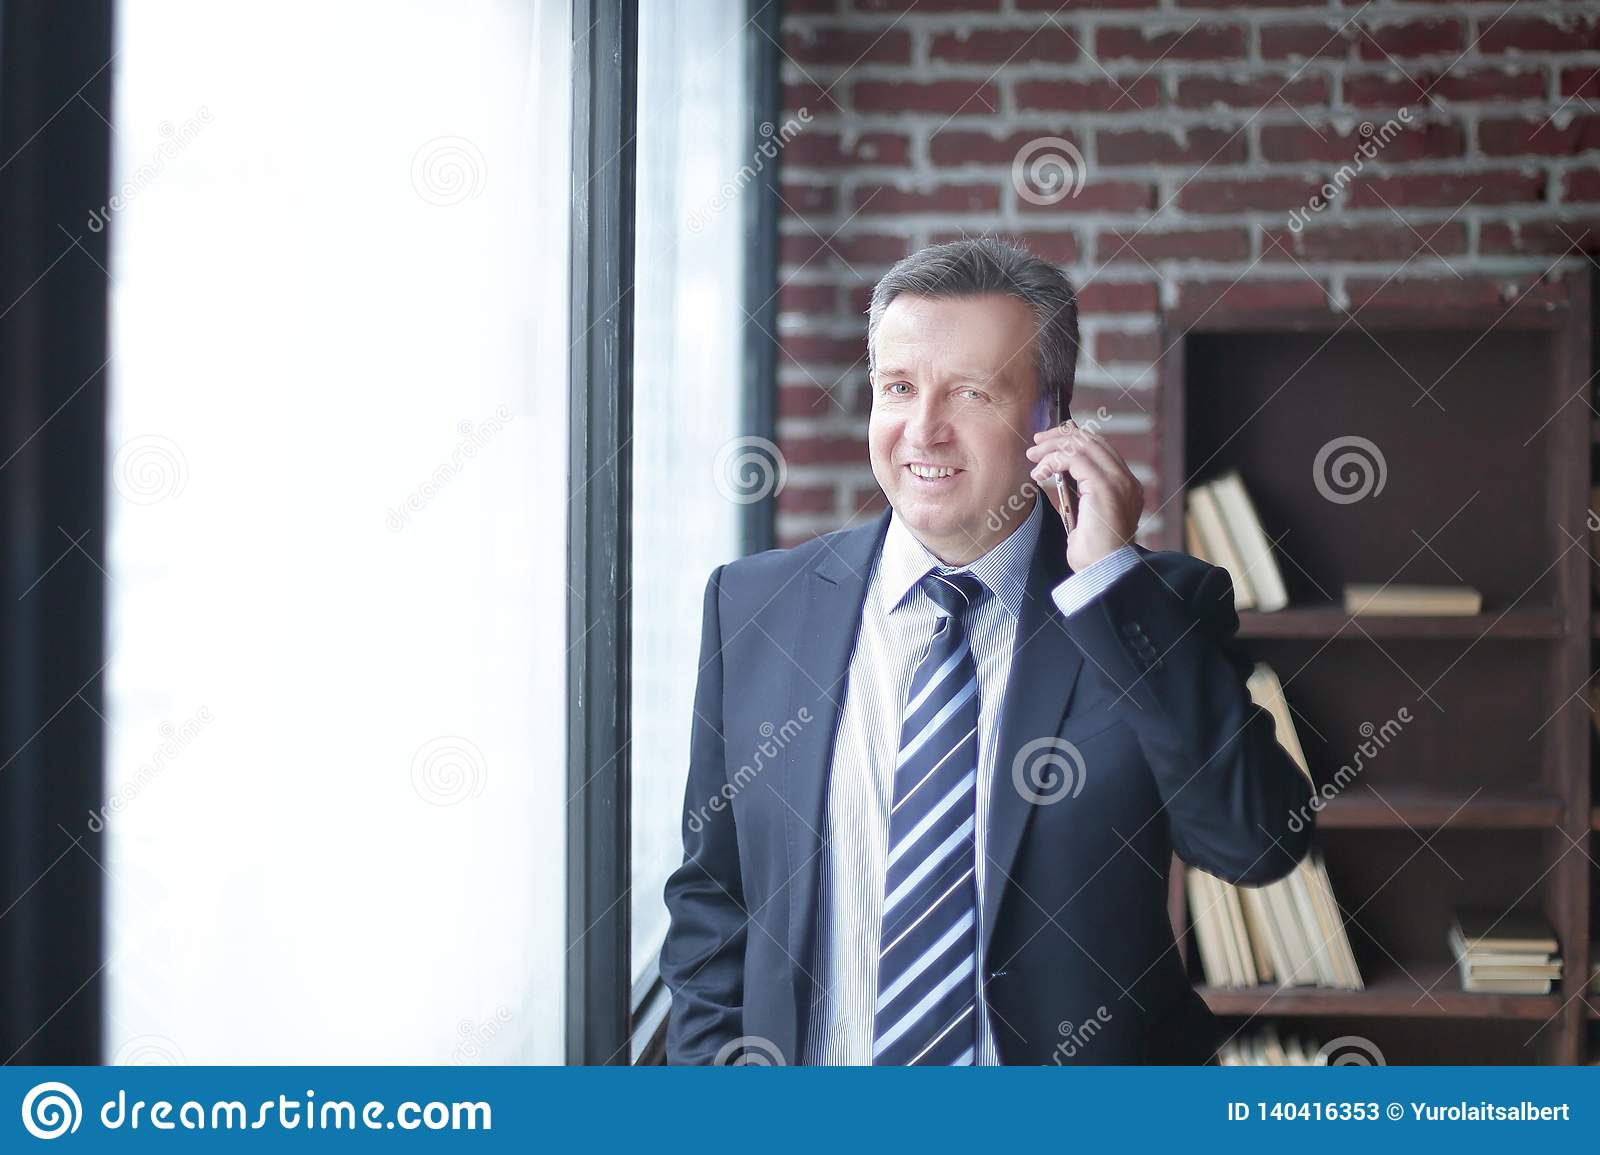phone: (1041, 380, 1091, 541)
talk: (870, 346, 1147, 587)
